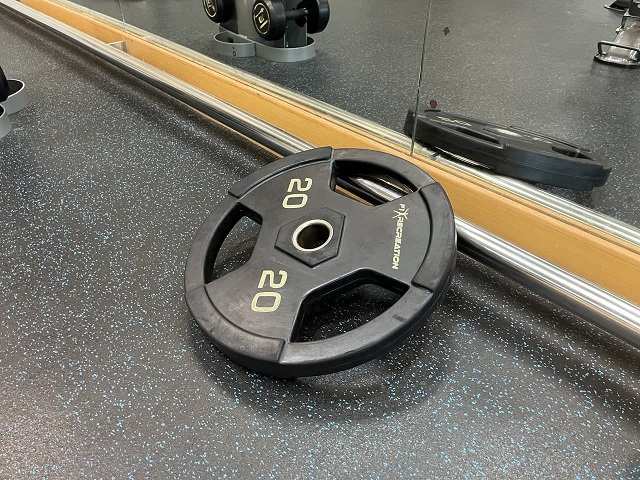weights: (183, 145, 458, 380), (403, 102, 612, 189)
